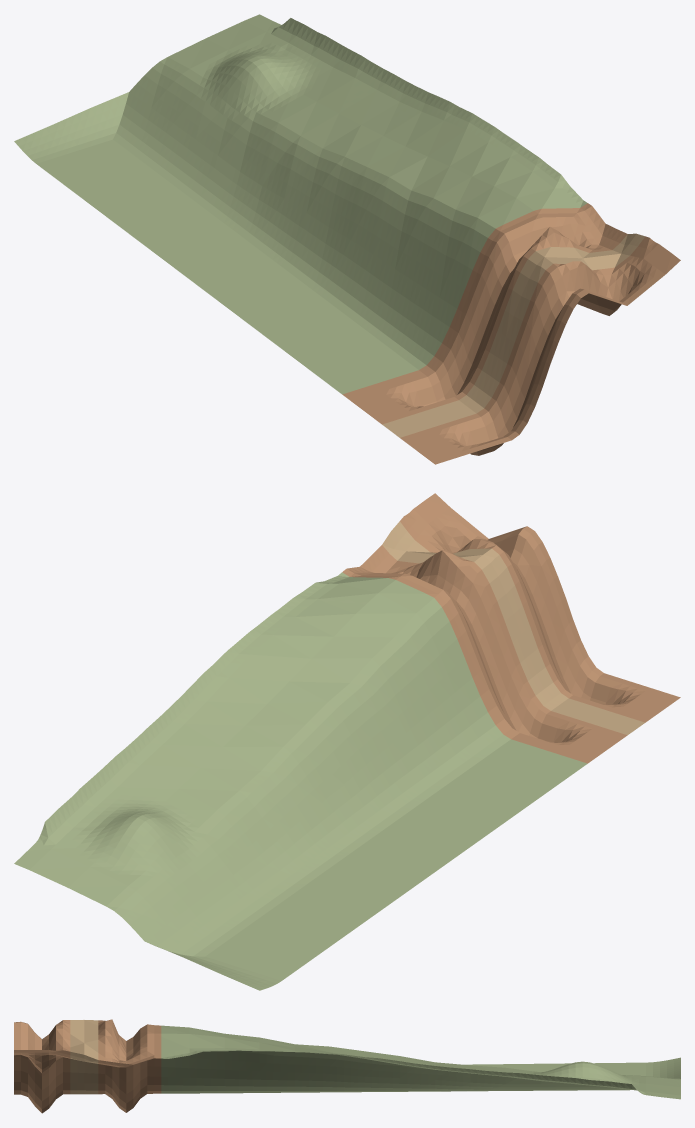
The model's file is reexport.glb.
3 views of the same model, one above another, from view 1: azimuth 30°, elevation 25°; view 2: azimuth 150°, elevation 25°; view 3: azimuth 270°, elevation 25° (orthographic). The views are drawn at different scales.
Visible parts, largest first — view 1: ic-bridge.surface.grass, ic-lookout.surface.grass, ic-bridge.surface.earth, ic-koguchi.surface.earth, ic-bridge.surface.path, ic-koguchi.surface.path, ic-koguchi.surface.grass; view 2: ic-bridge.surface.grass, ic-lookout.surface.grass, ic-bridge.surface.earth, ic-koguchi.surface.earth, ic-bridge.surface.path, ic-koguchi.surface.path; view 3: ic-bridge.surface.grass, ic-lookout.surface.grass, ic-bridge.surface.earth, ic-koguchi.surface.earth, ic-koguchi.surface.path, ic-bridge.surface.path, ic-koguchi.surface.grass.
Boxes of the visible parts, x1=… form: ic-bridge.surface.grass: x1=169, y1=86, x2=582, y2=394; ic-lookout.surface.grass: x1=14, y1=14, x2=414, y2=263; ic-bridge.surface.earth: x1=342, y1=252, x2=573, y2=464; ic-koguchi.surface.earth: x1=480, y1=203, x2=680, y2=318; ic-bridge.surface.path: x1=382, y1=273, x2=537, y2=437; ic-koguchi.surface.path: x1=520, y1=233, x2=645, y2=282; ic-koguchi.surface.grass: x1=476, y1=200, x2=587, y2=251; ic-bridge.surface.grass: x1=169, y1=576, x2=587, y2=886; ic-lookout.surface.grass: x1=14, y1=708, x2=414, y2=990; ic-bridge.surface.earth: x1=449, y1=542, x2=680, y2=763; ic-koguchi.surface.earth: x1=342, y1=493, x2=542, y2=623; ic-bridge.surface.path: x1=489, y1=567, x2=644, y2=735; ic-koguchi.surface.path: x1=382, y1=521, x2=506, y2=582; ic-bridge.surface.grass: x1=161, y1=1026, x2=435, y2=1093; ic-lookout.surface.grass: x1=435, y1=1057, x2=680, y2=1099; ic-bridge.surface.earth: x1=14, y1=1055, x2=161, y2=1113; ic-koguchi.surface.earth: x1=14, y1=1019, x2=161, y2=1072; ic-koguchi.surface.path: x1=70, y1=1020, x2=98, y2=1063; ic-bridge.surface.path: x1=70, y1=1058, x2=98, y2=1094; ic-koguchi.surface.grass: x1=161, y1=1025, x2=168, y2=1058.
Bounding box in the file's own units: 32 × 21 × 95.
